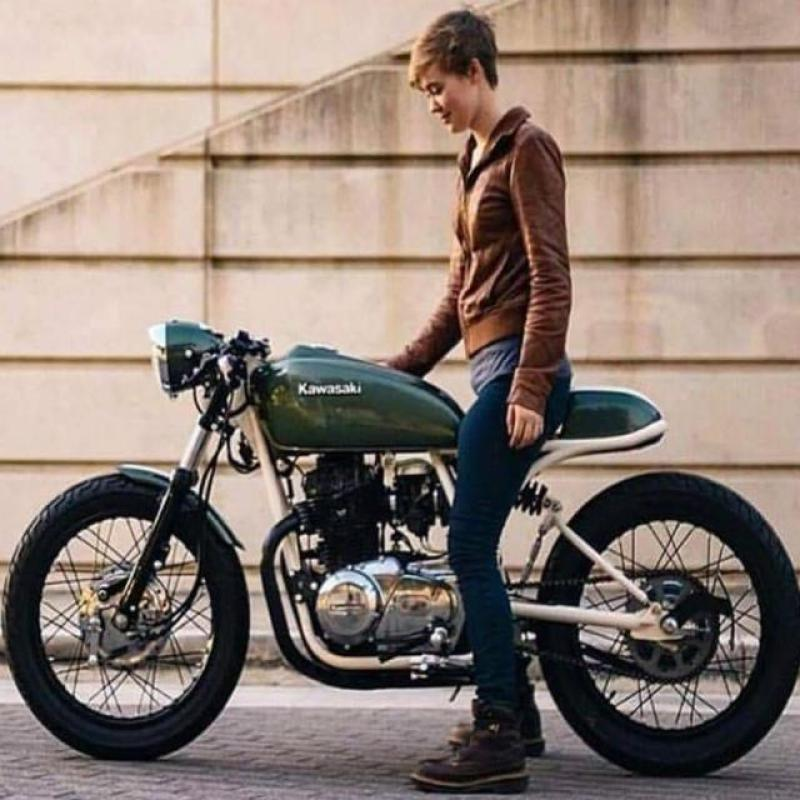nohelmet: (397, 21, 508, 131)
